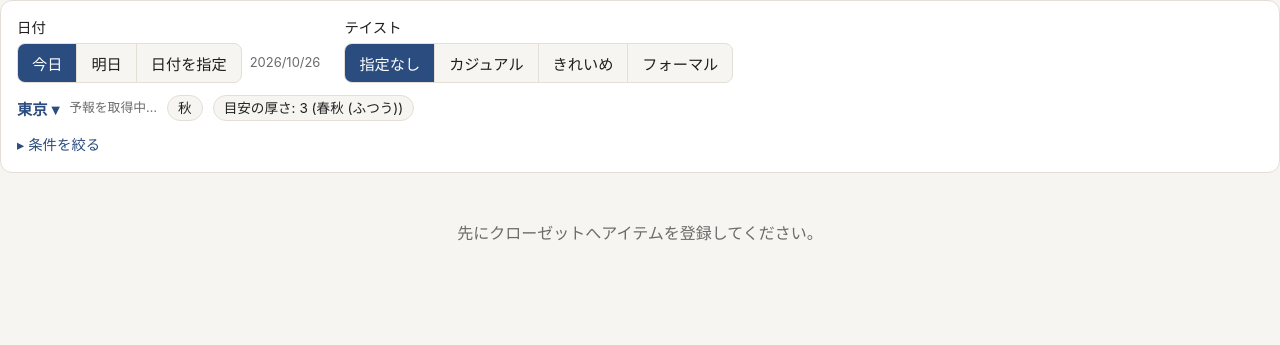
Test: SuggestView forecast › does not fetch for a date outside the forecast range
Click the button "▸ 条件を絞る" at (59,144), box [17,133,100,154]
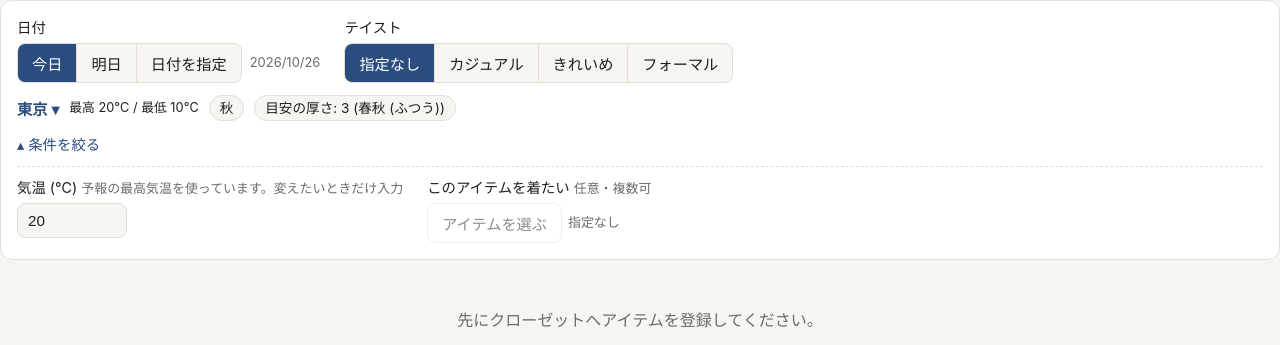
Result: the number field with placeholder "例: 18" holds "20" at [17,203,127,238]
Click the button "日付を指定" at (188,63), box [136,44,241,82]
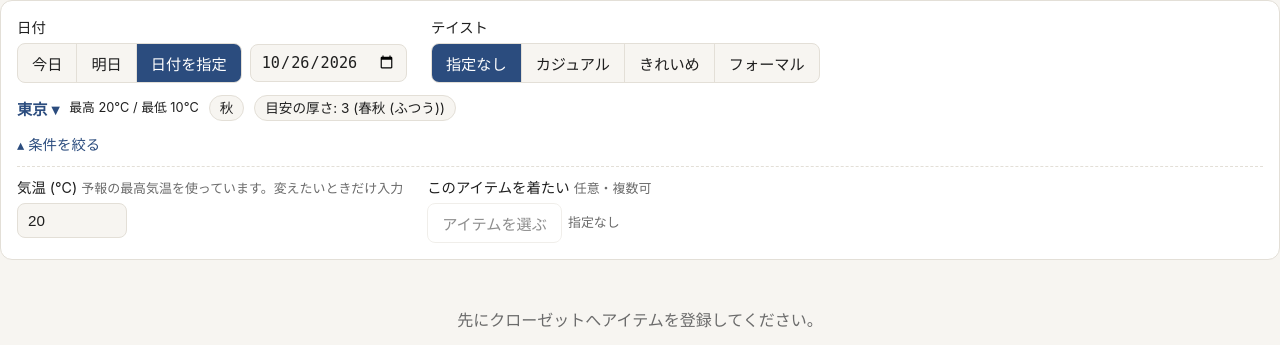
Type "2030-01-01" into the date field named "日付を選択" at (328,63), box [250,44,407,82]
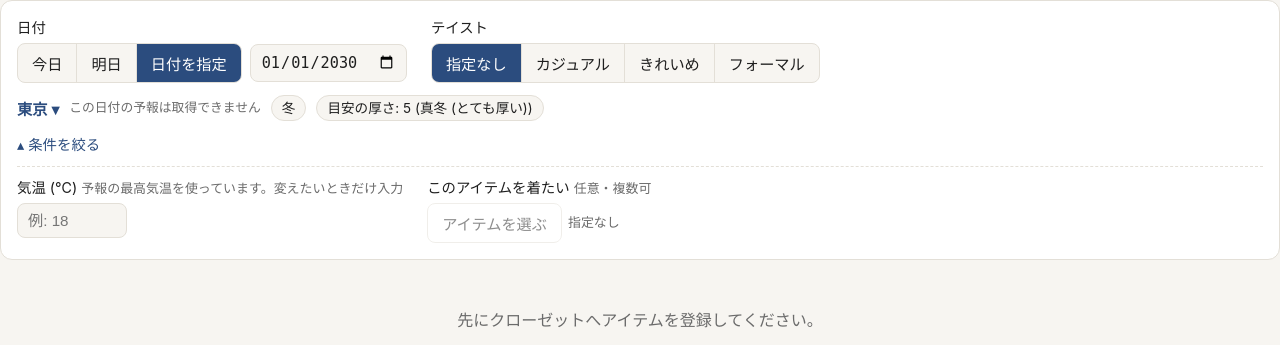
Result: the text "この日付の予報は取得できません" is shown at [69,98,261,117]
